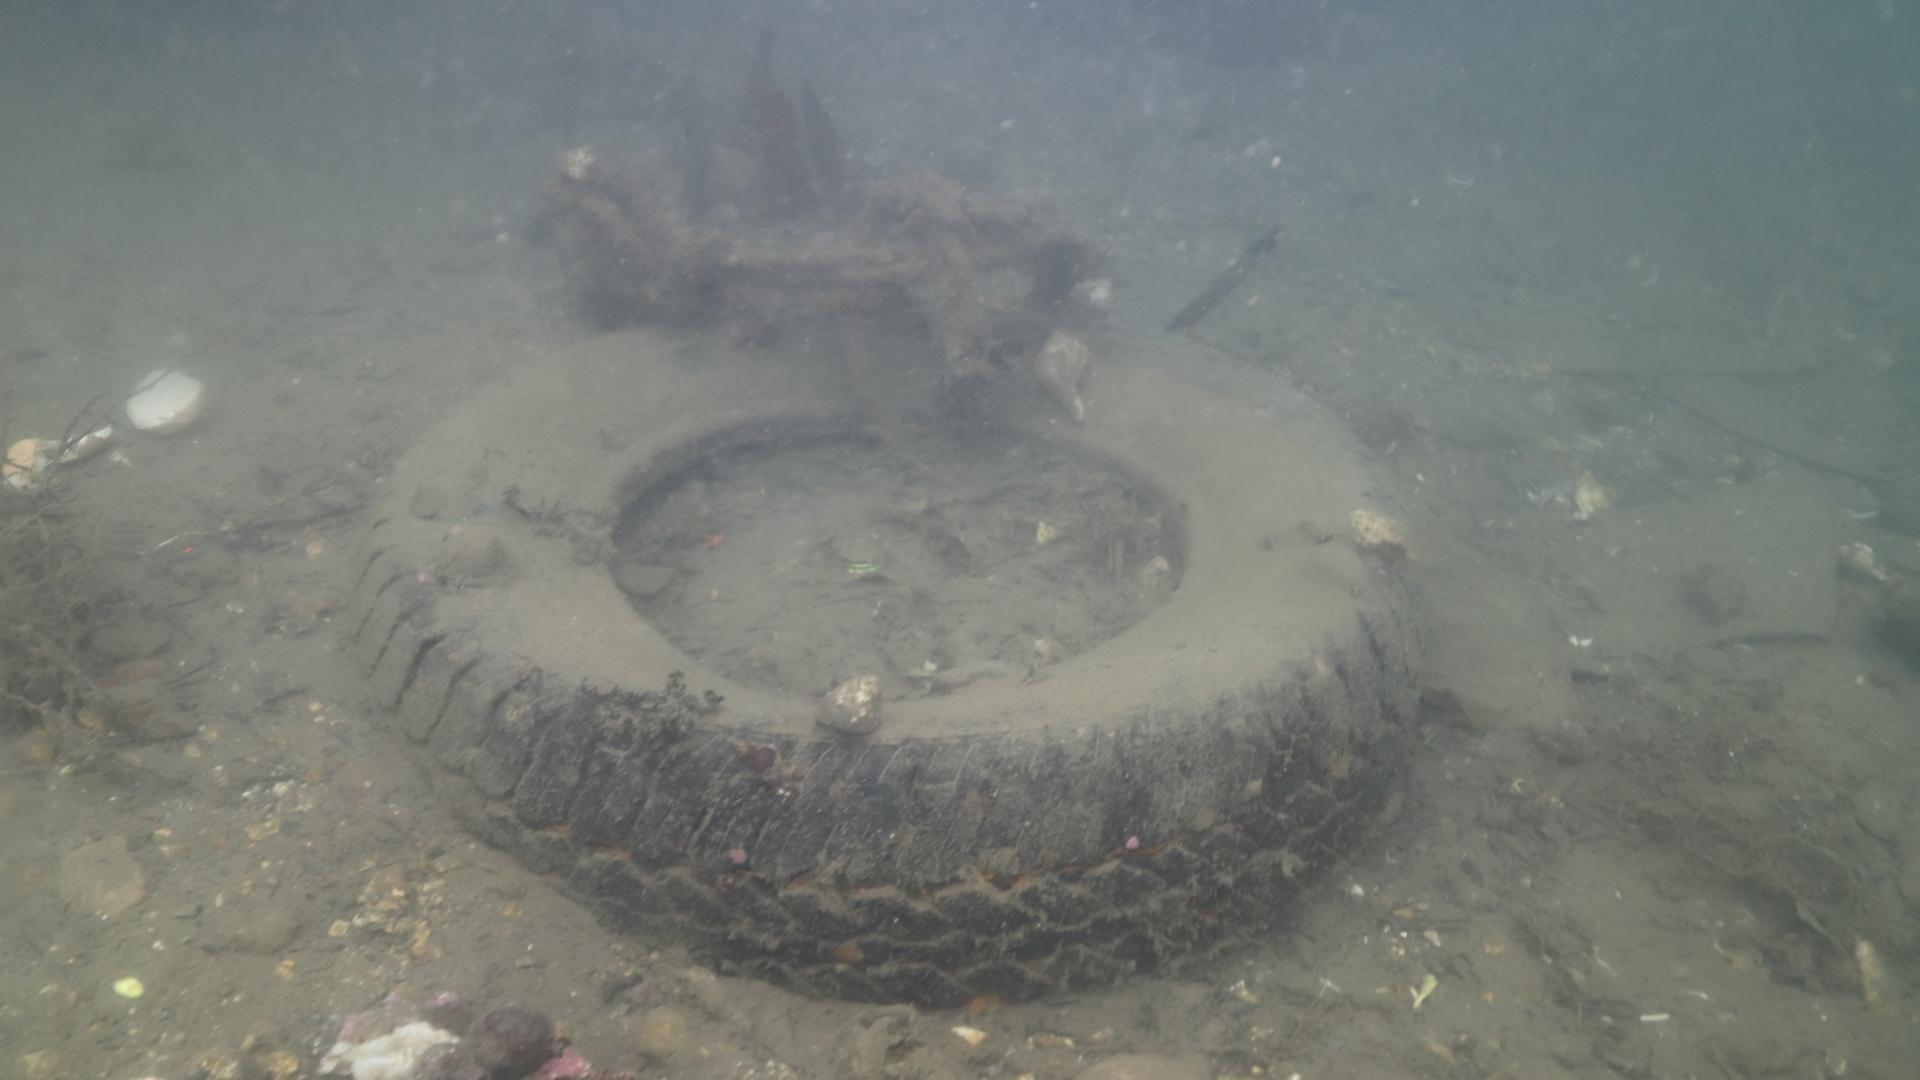tire: (348, 316, 1436, 1015)
